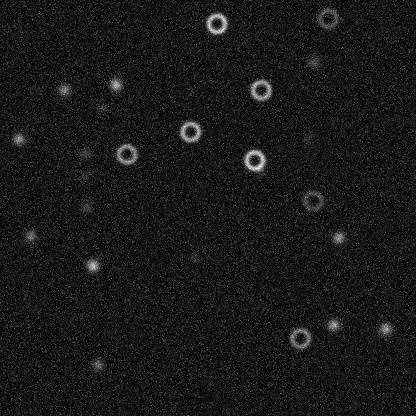Ring: (288, 326, 312, 350), (242, 148, 266, 172), (204, 11, 228, 35), (114, 142, 138, 166), (178, 119, 202, 143), (300, 188, 324, 212), (315, 6, 339, 30), (248, 77, 272, 101)
Spot: (76, 166, 92, 182), (377, 320, 393, 336), (186, 248, 202, 264), (84, 257, 100, 273), (10, 130, 26, 146), (94, 99, 110, 115), (252, 162, 268, 178), (22, 227, 38, 243), (56, 81, 72, 97), (325, 316, 341, 332), (330, 229, 346, 245), (78, 198, 94, 214), (300, 130, 316, 146), (77, 144, 93, 160), (305, 54, 321, 70), (107, 76, 123, 92), (89, 356, 105, 372)
